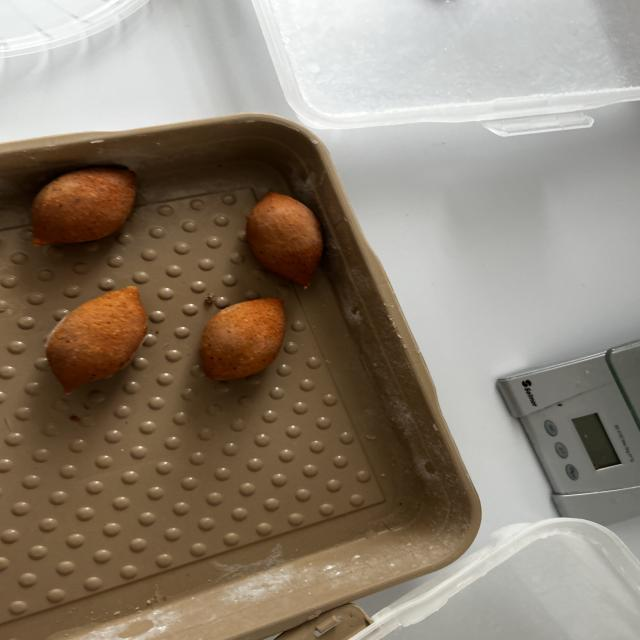kobi: (44, 285, 148, 394), (248, 192, 336, 288), (198, 296, 286, 381), (35, 172, 132, 246)
